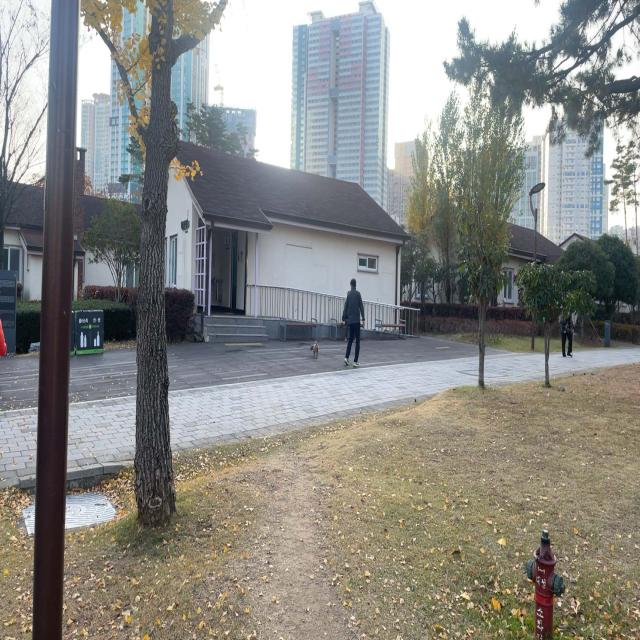Leashed_Dog: (309, 323, 352, 359)
